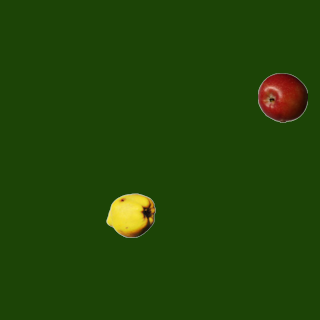Apple Braeburn: (257, 72, 307, 122)
Quince: (105, 190, 155, 240)
